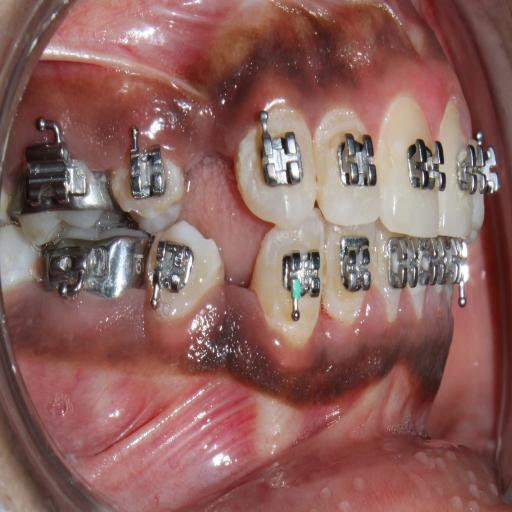correct_brace: (113, 143, 192, 239), (257, 129, 304, 196), (336, 126, 376, 194), (410, 138, 444, 192)
incorrect_brace: (315, 103, 377, 223), (124, 144, 168, 197)
